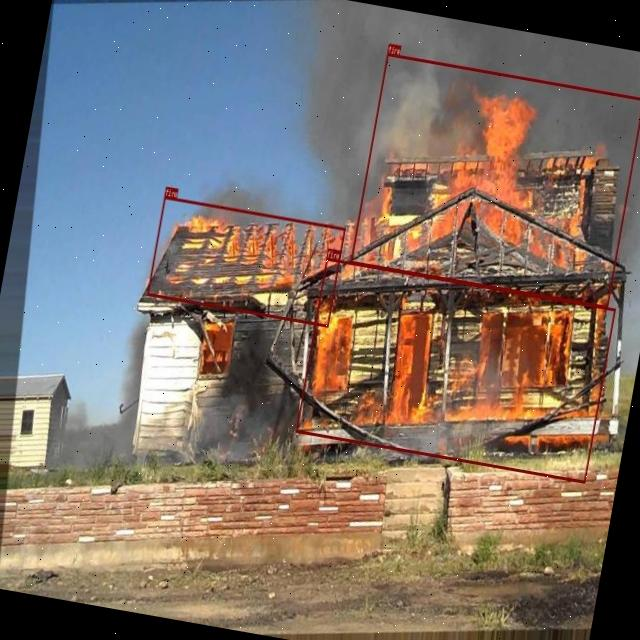fire: (349, 52, 640, 307), (296, 257, 614, 482), (147, 196, 346, 328)
